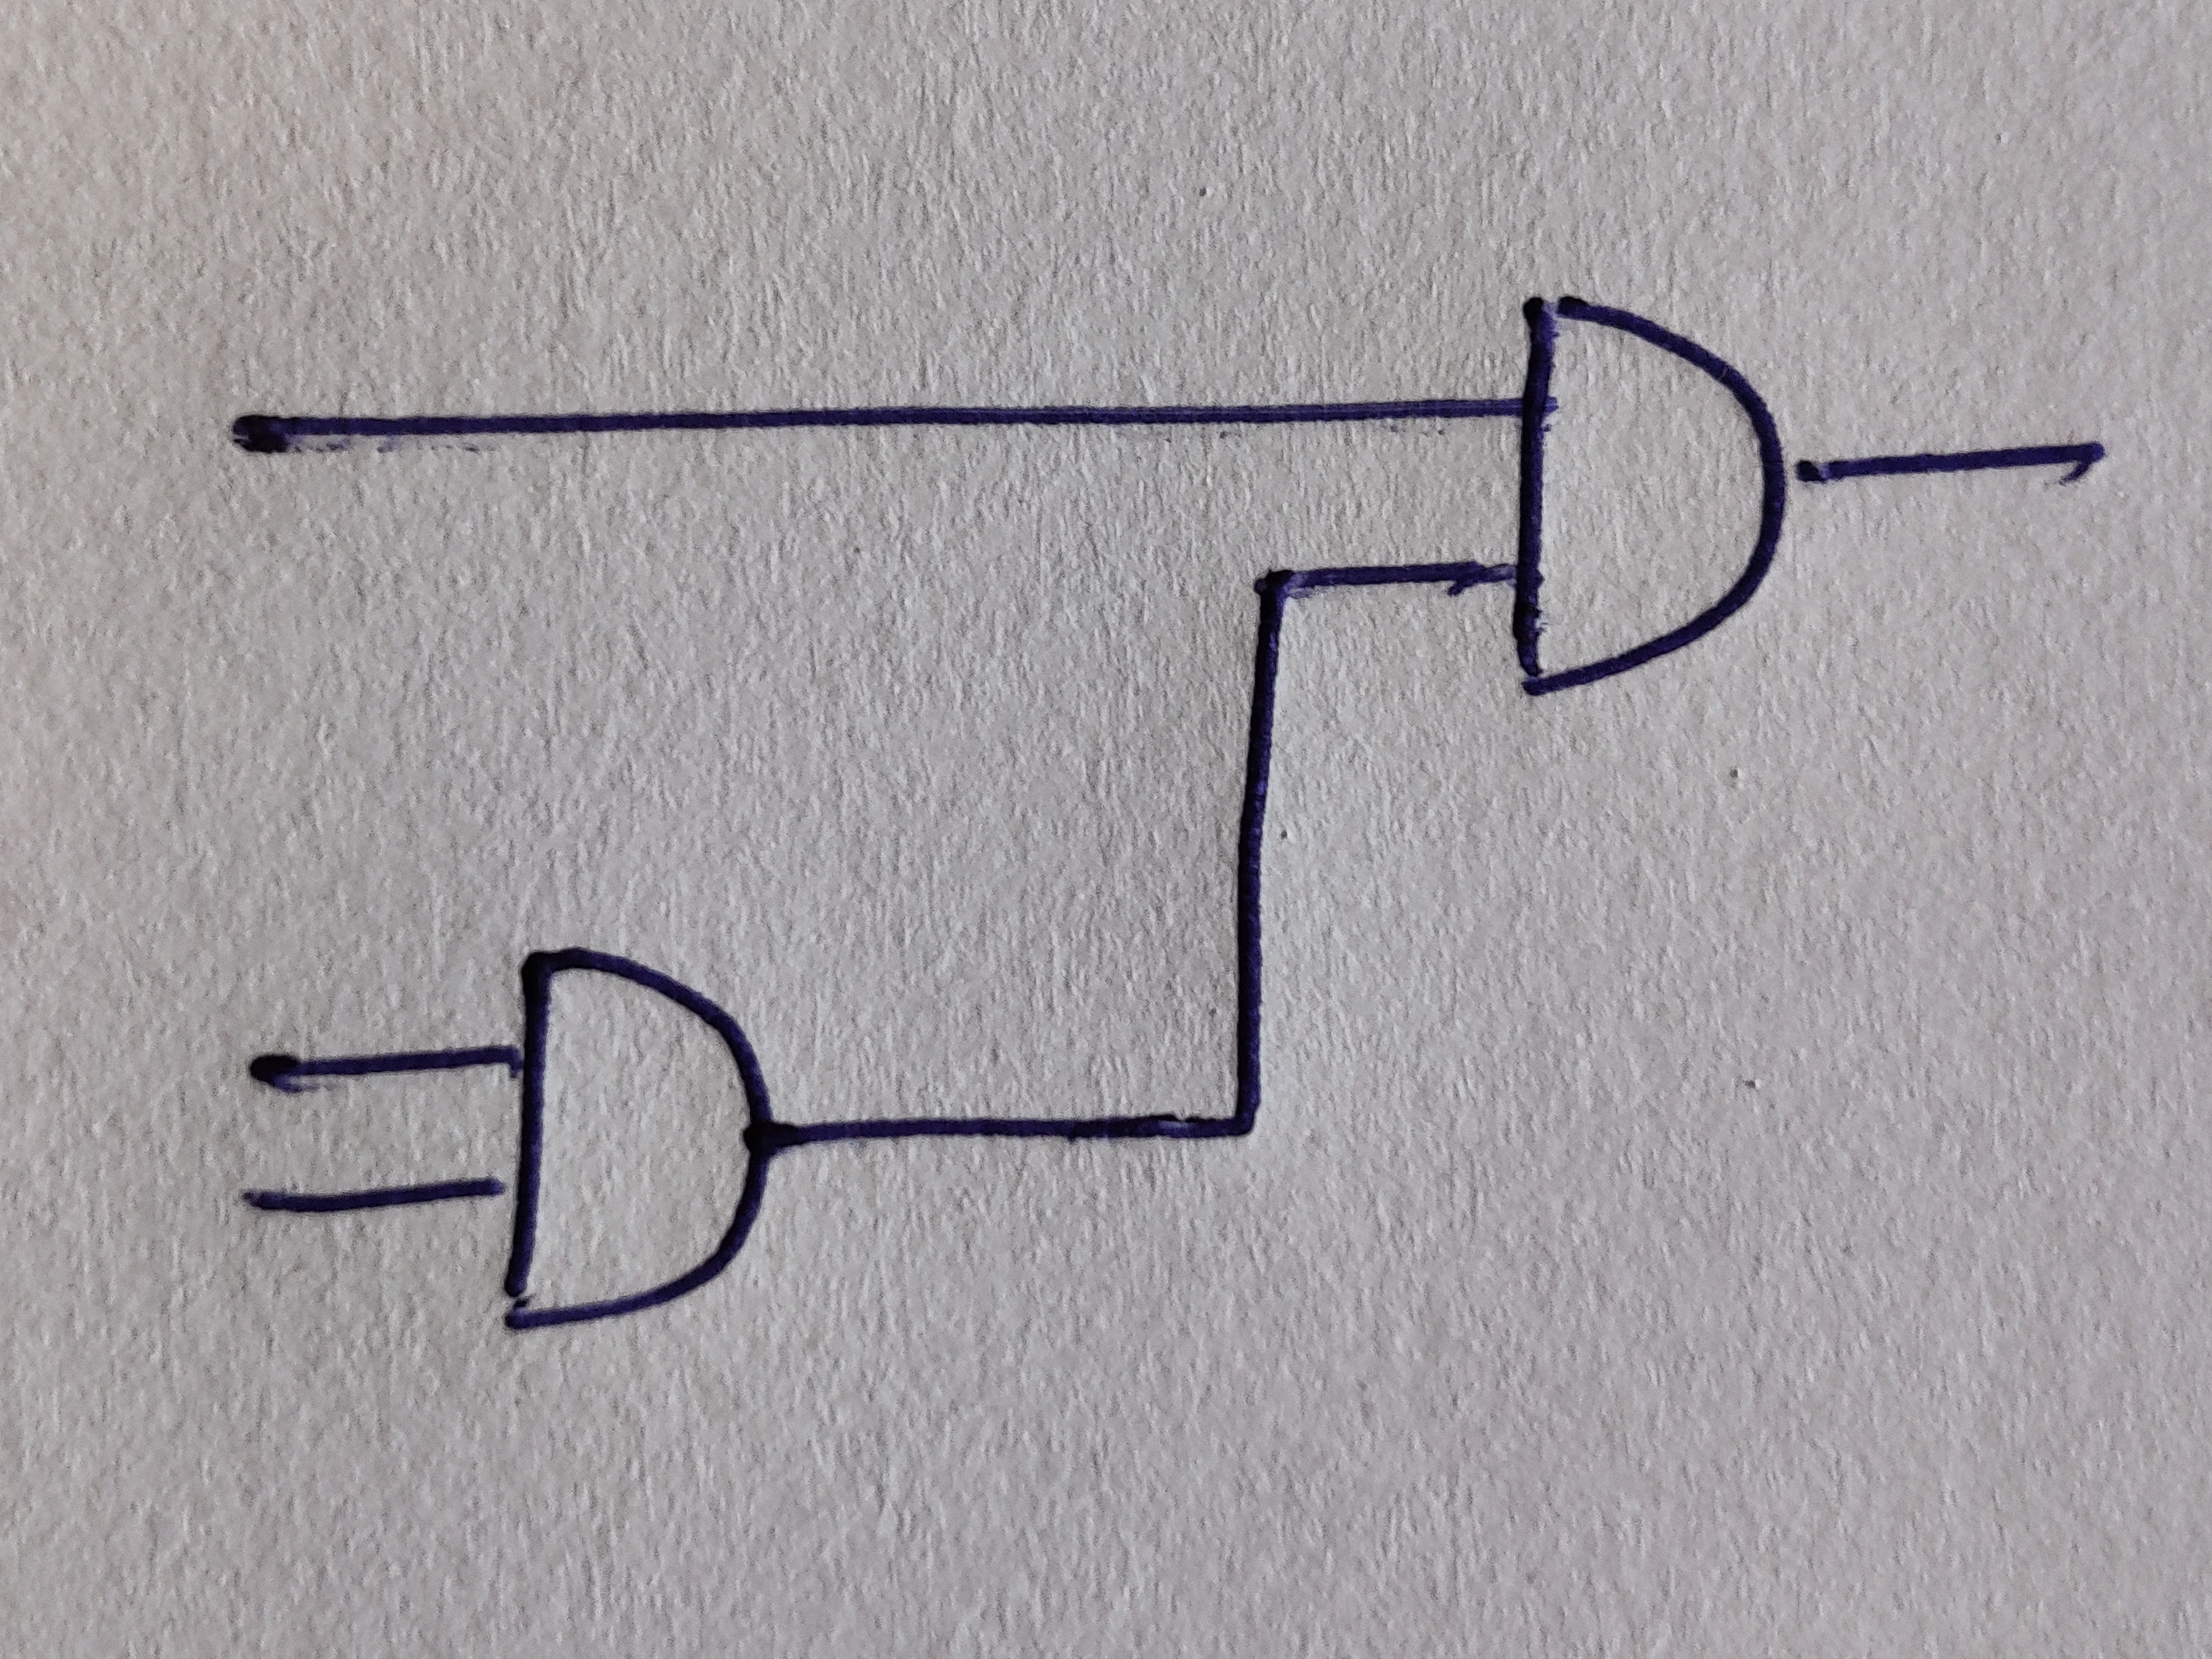and: (1512, 296, 1785, 697), (505, 946, 773, 1333)
